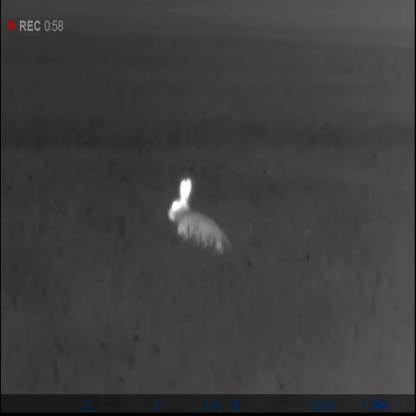rehkitze: (164, 178, 234, 257)
